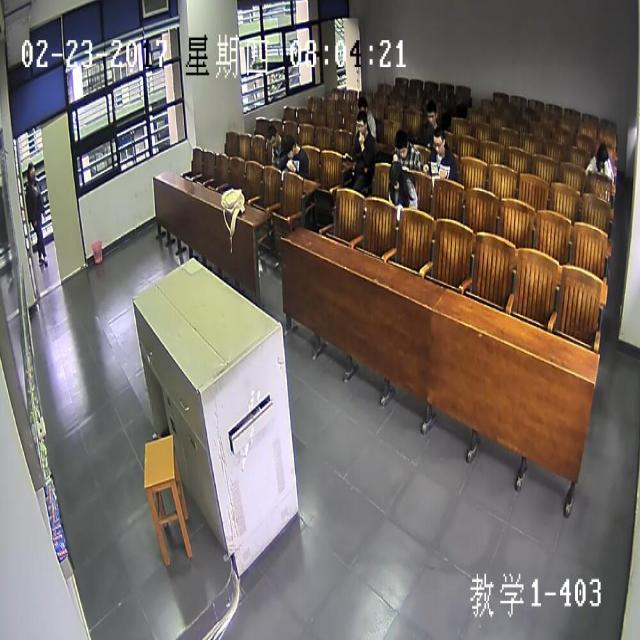person: (432, 122, 446, 153), (280, 133, 298, 157), (389, 162, 403, 188), (395, 130, 408, 156), (596, 141, 610, 165), (355, 110, 367, 135), (265, 124, 278, 145), (426, 99, 437, 123), (357, 95, 369, 115)
